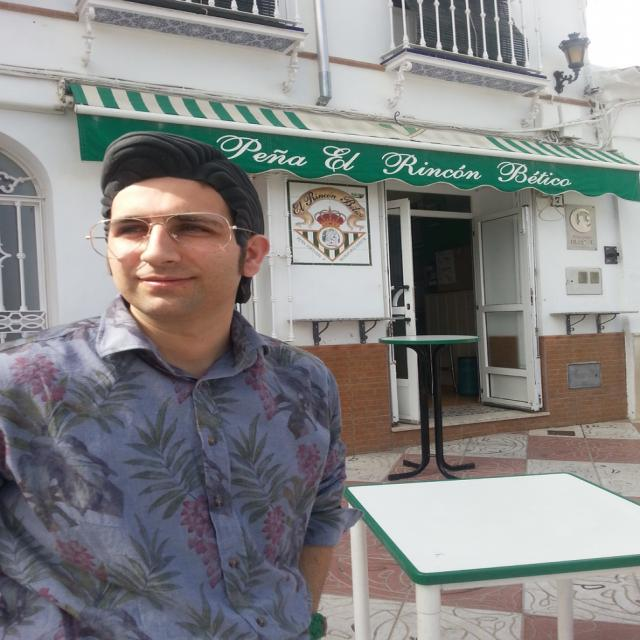Glasses: (76, 207, 266, 260)
